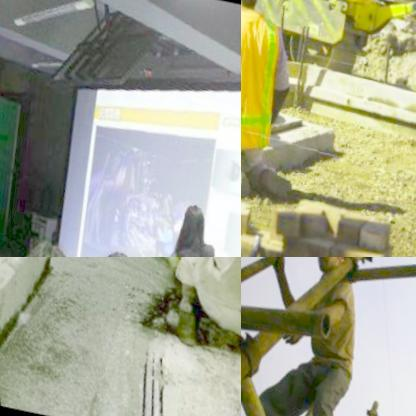head: (172, 199, 206, 245)
helmet: (300, 257, 356, 283)
